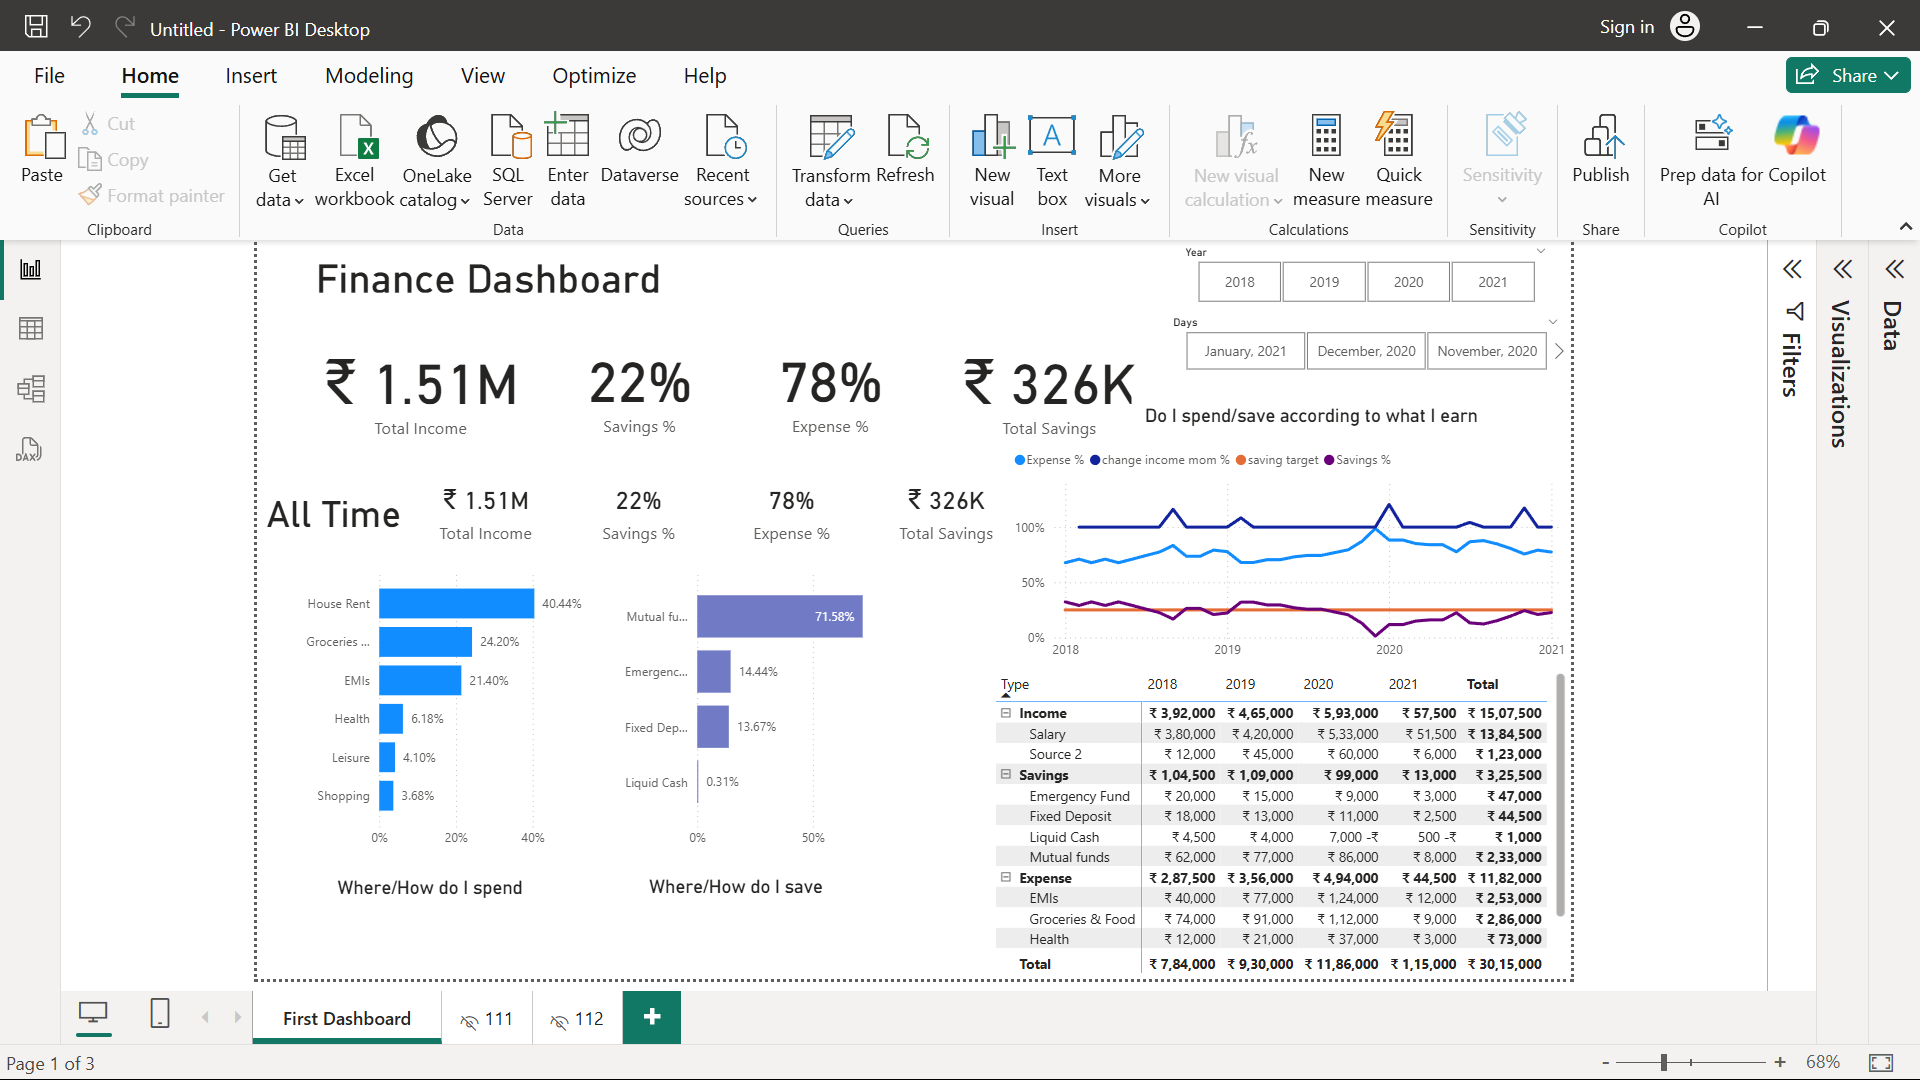

This screenshot's page, from the dashboard's own definition file:
{"tool":"powerbi","page":{"name":"First Dashboard","canvas":[1280,720],"ordinal":0},"visuals":[{"type":"card","fields":{"Values":["Key Measures.Total Income"]},"box":[53,68.1,213.5,149.9],"z":0},{"type":"card","fields":{"Values":["Key Measures.Savings %"]},"box":[266.5,66.6,213,149.9],"z":1},{"type":"card","fields":{"Values":["Key Measures.Expense %"]},"box":[451.2,66.6,213.5,149.9],"z":2},{"type":"card","fields":{"Values":["Key Measures.Total Savings"]},"box":[664.7,68.1,213.5,149.9],"z":3},{"type":"textbox","box":[27,316.5,239,150],"z":6},{"type":"slicer","fields":{"Values":["FinData.Year"]},"box":[891.5,0,377.1,67.2],"z":7},{"type":"slicer","fields":{"Values":["FinData.Days"]},"box":[879.8,68.7,400.4,64.3],"z":8},{"type":"card","fields":{"Values":["Key Measures.Title"]},"box":[0,0,451.2,66.6],"z":9},{"type":"card","fields":{"Values":["Key Measures.Total Income"]},"box":[148.2,212.9,149.9,99.9],"z":10},{"type":"card","fields":{"Values":["Key Measures.Savings %"]},"box":[297.3,212.9,149.9,99.9],"z":11},{"type":"card","fields":{"Values":["Key Measures.Expense %"]},"box":[446.5,212.9,149.9,99.9],"z":12},{"type":"card","fields":{"Values":["Key Measures.Total Savings"]},"box":[595.6,212.9,149.9,99.9],"z":13},{"type":"card","fields":{"Values":["Key Measures.All Time"]},"box":[0,212.9,149,99],"z":14},{"type":"barChart","fields":{"Category":["FinData.Component"],"Y":["Key Measures.Total Expense"]},"box":[27.3,311.9,310.4,289.2],"z":15},{"type":"card","fields":{"Values":["Key Measures.Expenditure"]},"box":[39.4,602.7,257.4,57.5],"z":16},{"type":"barChart","fields":{"Category":["FinData.Component"],"Y":["Key Measures.Total Savings"]},"box":[337.7,311.9,310.4,289.2],"z":17},{"type":"card","fields":{"Values":["Key Measures.Saving"]},"box":[337.7,601.1,257.4,57.5],"z":18},{"type":"lineChart","fields":{"Y":["Key Measures.Expense %","Key Measures.change income mom %","Key Measures.saving target","Key Measures.Savings %"],"Category":["FinData.Days"]},"box":[732.9,193.8,546.6,222.6],"z":19},{"type":"card","fields":{"Values":["Key Measures.title1"]},"box":[852.5,143.8,349.8,56],"z":20},{"type":"pivotTable","fields":{"Columns":["FinData.Year","FinData.Days"],"Values":["Key Measures.Value"],"Rows":["type.Type","FinData.Component"]},"box":[714.7,416.4,564.8,302.8],"z":21}]}

Visuals, with their boxes on the page's 1280x720 design canvas (x1, y1, x2, y2). These are canvas units, not pixel positions in the 1920x1080 screenshot, which may show the page scaled, cropped or inside an application window:
card - Key Measures.Total Income: Rect(53, 68, 266, 218)
card - Key Measures.Savings %: Rect(266, 67, 480, 216)
card - Key Measures.Expense %: Rect(451, 67, 665, 216)
card - Key Measures.Total Savings: Rect(665, 68, 878, 218)
textbox: Rect(27, 316, 266, 466)
slicer - FinData.Year: Rect(892, 0, 1269, 67)
slicer - FinData.Days: Rect(880, 69, 1280, 133)
card - Key Measures.Title: Rect(0, 0, 451, 67)
card - Key Measures.Total Income: Rect(148, 213, 298, 313)
card - Key Measures.Savings %: Rect(297, 213, 447, 313)
card - Key Measures.Expense %: Rect(446, 213, 596, 313)
card - Key Measures.Total Savings: Rect(596, 213, 746, 313)
card - Key Measures.All Time: Rect(0, 213, 149, 312)
barChart - FinData.Component x Key Measures.Total Expense: Rect(27, 312, 338, 601)
card - Key Measures.Expenditure: Rect(39, 603, 297, 660)
barChart - FinData.Component x Key Measures.Total Savings: Rect(338, 312, 648, 601)
card - Key Measures.Saving: Rect(338, 601, 595, 659)
lineChart - Key Measures.Expense % x Key Measures.change income mom %: Rect(733, 194, 1280, 416)
card - Key Measures.title1: Rect(852, 144, 1202, 200)
pivotTable - FinData.Year x FinData.Days: Rect(715, 416, 1280, 719)
